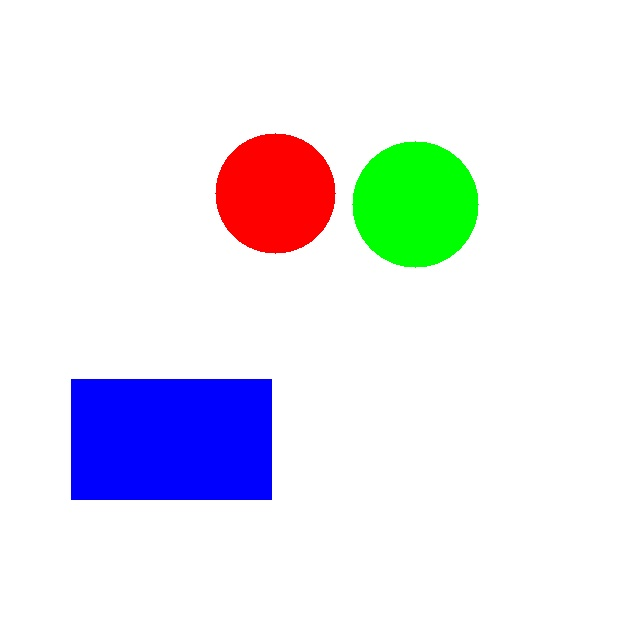cartao: (71, 379, 271, 499)
rosca_externa: (352, 141, 478, 267)
rosca_interna: (215, 133, 335, 253)
